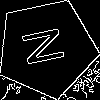N: (21, 23, 74, 68)
